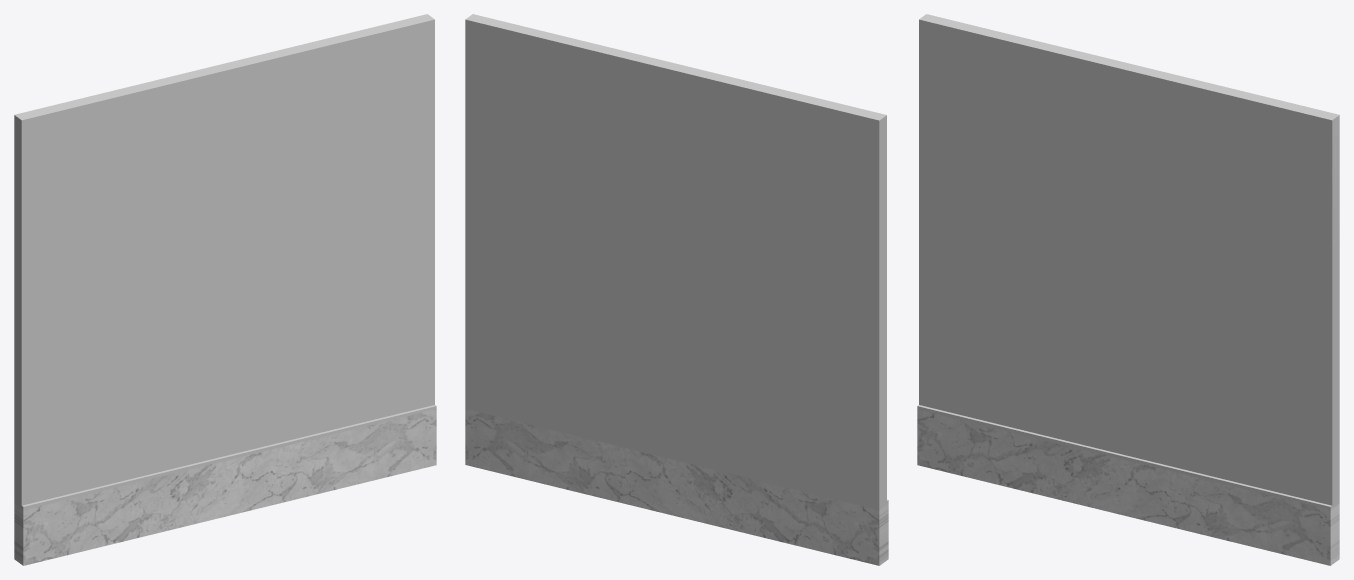
File: fbx_restaurant_wall1.fbx
The picture shows the model from 3 angles, left to right: view 1: azimuth 30°, elevation 25°; view 2: azimuth 150°, elevation 25°; view 3: azimuth 330°, elevation 25°; orthographic projection.
Visible parts, largest first — view 1: fbx_restaurant_wall1; view 2: fbx_restaurant_wall1; view 3: fbx_restaurant_wall1.
Part boxes in pixels (left/top/right/bottom): fbx_restaurant_wall1: left=14, top=14, right=436, bottom=565; fbx_restaurant_wall1: left=465, top=14, right=888, bottom=565; fbx_restaurant_wall1: left=917, top=14, right=1339, bottom=565.
Bounding box in the file's own units: 6.49 × 6.67 × 0.2511.
1 material, 1 textured.
